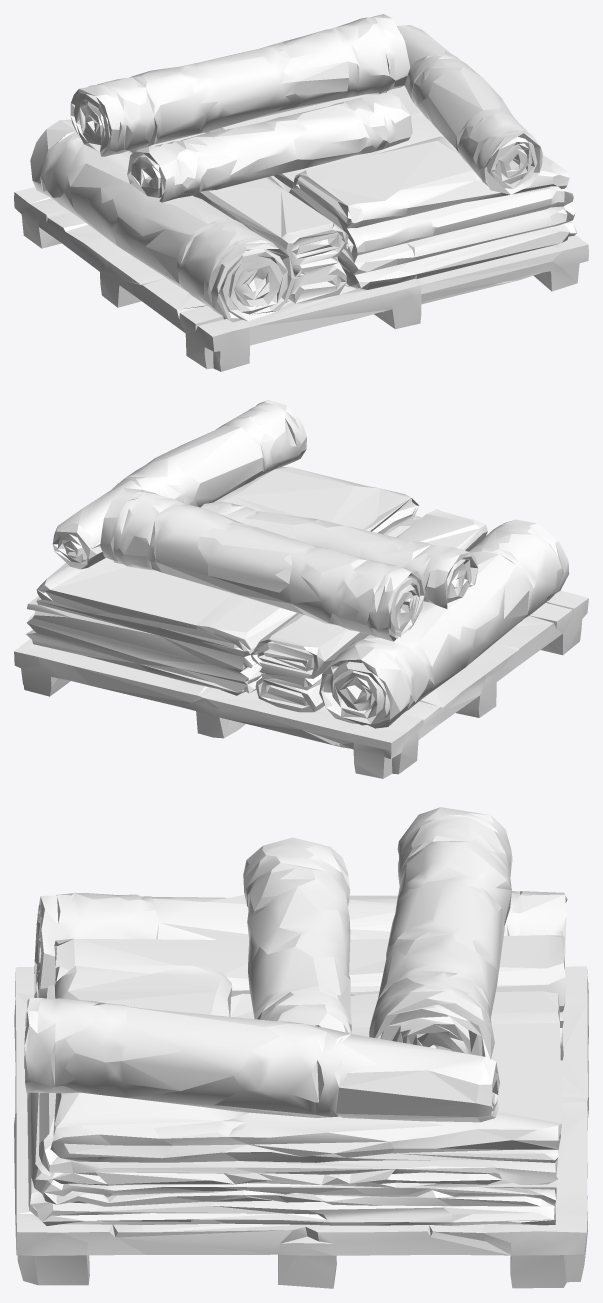
Rendered from cloth_pile.glb.
3 renders of one model, top to bottom at view 1: azimuth 30°, elevation 25°; view 2: azimuth 150°, elevation 25°; view 3: azimuth 270°, elevation 25°, orthographic. The views are drawn at different scales.
Visible parts, largest first — view 1: Mesh_0; view 2: Mesh_0; view 3: Mesh_0.
Boxes of the visible parts, x1,y1,x2,y2 form: Mesh_0: [14, 14, 588, 371]; Mesh_0: [14, 400, 588, 778]; Mesh_0: [14, 807, 588, 1288].
Bounding box in the file's own units: 1.6 × 0.706 × 1.45.
1 material, 1 textured.
